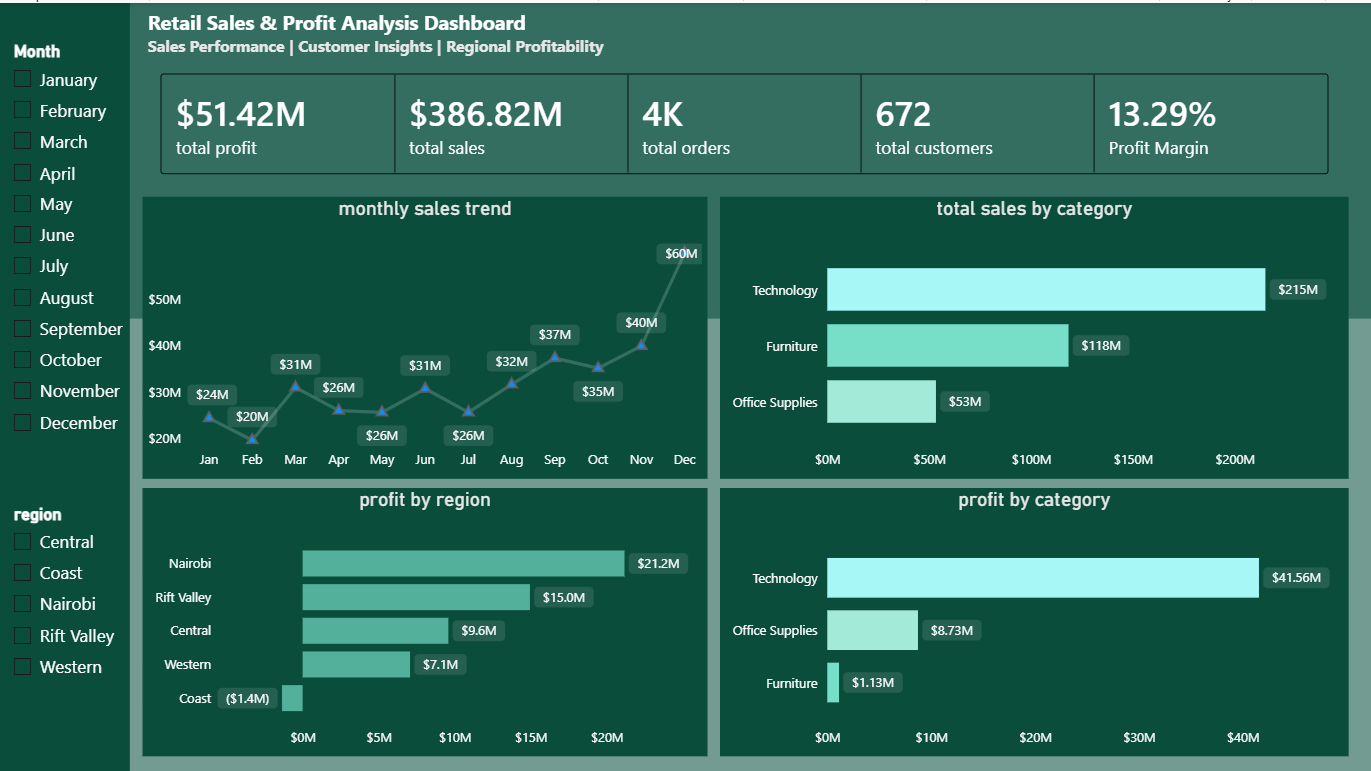

This screenshot's page, from the dashboard's own definition file:
{"tool":"powerbi","page":{"name":"Page 1","canvas":[1280,720],"ordinal":0},"visuals":[{"type":"textbox","box":[0,0,1280.3,293.7],"z":0},{"type":"cardVisual","fields":{"Data":["Sum(retail-orders.profit_kes)","Sum(retail-orders.sales_kes)","retail-orders.total orders","retail-orders.total customers","retail-orders.Profit Margin"]},"box":[133.1,49.4,1121.1,127.6],"z":1000},{"type":"lineChart","title":"monthly sales trend","fields":{"Y":["Sum(retail-orders.total sales)"],"Category":["retail-orders.Month Short"]},"box":[133.1,179.8,525.6,262.1],"z":2000},{"type":"clusteredBarChart","fields":{"Category":["retail-orders.category"],"Y":["Sum(retail-orders.total sales)"]},"box":[669.6,179.8,584.6,262.1],"z":3000},{"type":"barChart","title":"profit by region","fields":{"Y":["Sum(retail-orders.total_profit)"],"Category":["retail-orders.region"]},"box":[133.1,451.5,525.6,249.7],"z":4000},{"type":"clusteredBarChart","title":"profit by category","fields":{"Category":["retail-orders.category"],"Y":["Sum(retail-orders.total_profit)"]},"box":[669.6,451.5,584.6,249.7],"z":5000},{"type":"textbox","box":[133.1,0,1147.2,63.1],"z":6000},{"type":"textbox","box":[0,0,120.8,720.4],"z":7000},{"type":"slicer","fields":{"Values":["retail-orders.order_date.Variation.Date Hierarchy.Month"]},"box":[0,31.6,120.8,400.7],"z":8000},{"type":"slicer","fields":{"Values":["retail-orders.region"]},"box":[0,461.1,120.8,183.9],"z":9000}]}

Visuals, with their boxes in screenshot pixels (x1, y1, x2, y2), scaled from the page's 1280x720 canvas onto the 1371x771 screenshot:
textbox: (0,0,1370,315)
cardVisual - Sum(retail-orders.profit_kes) x Sum(retail-orders.sales_kes): (143,53,1343,190)
"monthly sales trend" lineChart: (143,193,706,473)
clusteredBarChart - retail-orders.category x Sum(retail-orders.total sales): (717,193,1343,473)
"profit by region" barChart: (143,483,706,751)
"profit by category" clusteredBarChart: (717,483,1343,751)
textbox: (143,0,1370,68)
textbox: (0,0,129,770)
slicer - retail-orders.order_date.Variation.Date Hierarchy.Month: (0,34,129,463)
slicer - retail-orders.region: (0,494,129,691)
